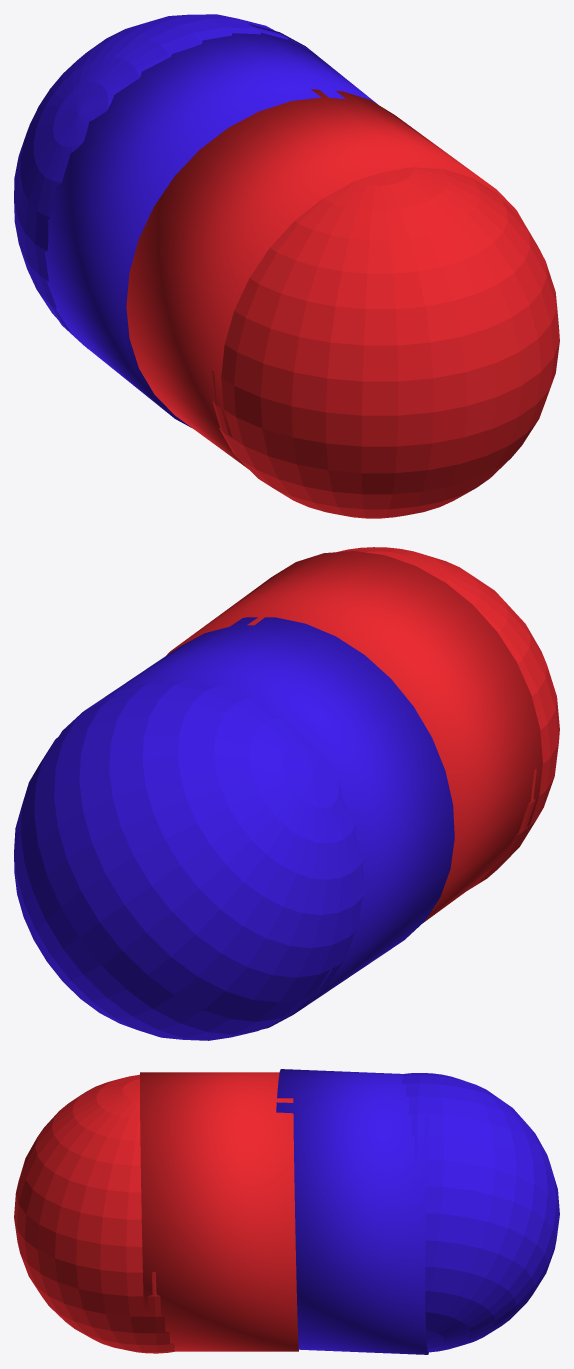
File: pillRock.fbx
3 views of the same model, one above another, from view 1: azimuth 30°, elevation 25°; view 2: azimuth 150°, elevation 25°; view 3: azimuth 270°, elevation 25° (orthographic). The views are drawn at different scales.
Visible parts, largest first — view 1: Cylinder, Cylinder.001; view 2: Cylinder.001, Cylinder; view 3: Cylinder, Cylinder.001.
Part boxes in pixels (box(x1,y1,x2,y2)): Cylinder: box(126, 89, 559, 518); Cylinder.001: box(14, 14, 377, 427); Cylinder.001: box(14, 617, 454, 1040); Cylinder: box(166, 547, 559, 922); Cylinder: box(14, 1072, 298, 1353); Cylinder.001: box(276, 1069, 559, 1354).
Bounding box in the file's own units: 206 × 202 × 390.
